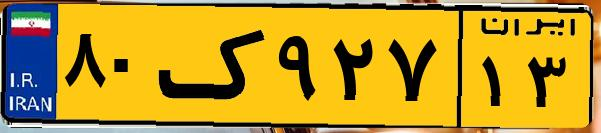0: (110, 28, 158, 98)
1: (475, 38, 525, 113)
2: (330, 28, 385, 110)
3: (525, 38, 570, 115)
7: (385, 28, 445, 110)
8: (57, 26, 110, 100)
9: (270, 28, 330, 110)
ک: (158, 12, 270, 120)
